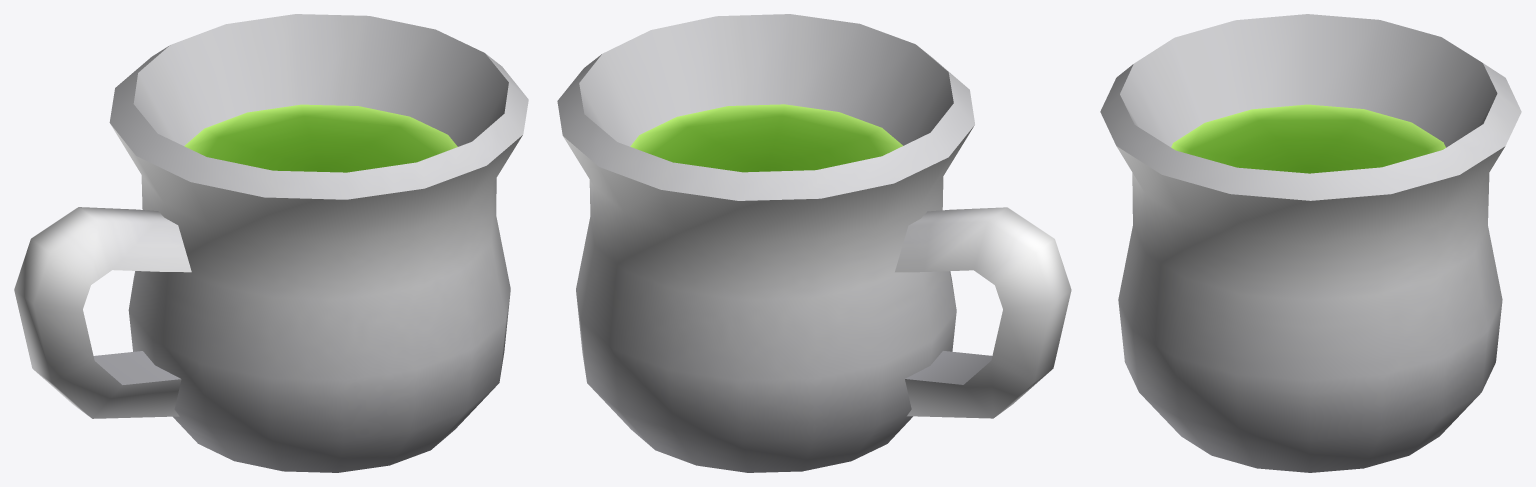
Rendered from m_FancyTea02.fbx.
The picture shows the model from 3 angles, left to right: view 1: azimuth 30°, elevation 25°; view 2: azimuth 150°, elevation 25°; view 3: azimuth 270°, elevation 25°; orthographic projection.
Visible parts, largest first — view 1: m_FancyTea02; view 2: m_FancyTea02; view 3: m_FancyTea02.
Boxes of the visible parts, bbox=[...] form: m_FancyTea02: bbox=[14, 14, 528, 472]; m_FancyTea02: bbox=[557, 14, 1071, 472]; m_FancyTea02: bbox=[1100, 14, 1521, 472].
Bounding box in the file's own units: 12.19 × 7.81 × 9.32.
